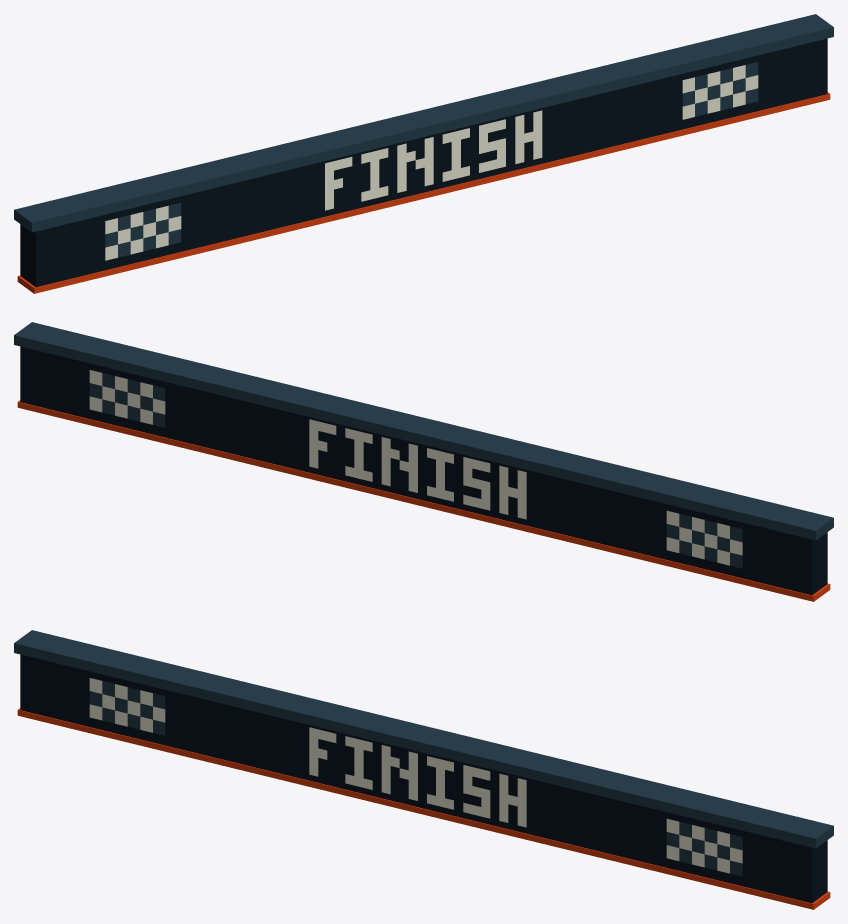
The model's file is FinishBridge.obj.
3 renders of one model, top to bottom at view 1: azimuth 30°, elevation 25°; view 2: azimuth 150°, elevation 25°; view 3: azimuth 330°, elevation 25°, orthographic.
Bounding box in the file's own units: 19.04 × 1.64 × 0.74.
